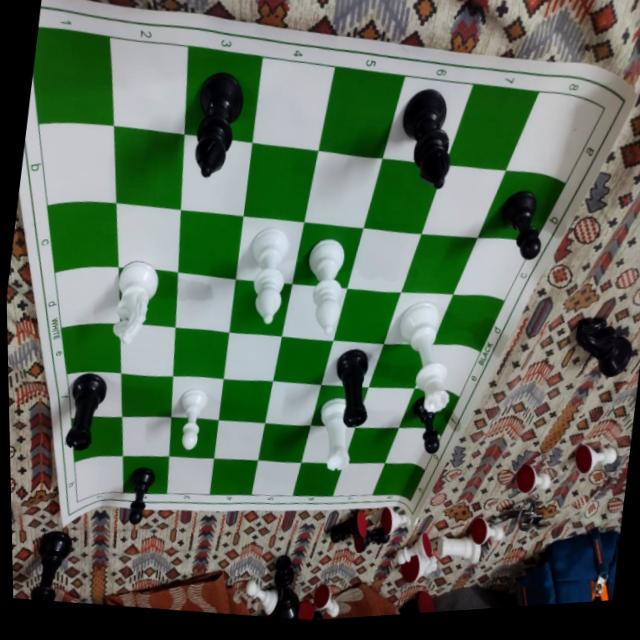board: (25, 10, 625, 517)
square: (506, 92, 604, 183), (445, 84, 539, 171), (382, 76, 473, 165), (318, 67, 405, 158), (252, 57, 335, 152), (33, 29, 113, 126), (109, 37, 188, 134), (184, 47, 263, 143), (477, 171, 566, 244), (38, 124, 116, 207), (421, 165, 506, 238), (363, 159, 445, 234), (304, 151, 382, 228), (243, 143, 318, 222), (181, 135, 252, 217), (114, 127, 184, 210), (452, 239, 533, 301), (47, 203, 118, 272), (347, 228, 422, 293), (292, 222, 363, 288), (236, 216, 304, 284), (401, 234, 477, 294), (115, 203, 181, 272), (178, 210, 243, 279), (432, 295, 505, 351), (55, 268, 120, 328), (333, 289, 401, 344), (282, 284, 347, 341), (229, 279, 292, 337), (175, 272, 235, 332), (384, 293, 453, 345), (119, 267, 178, 327), (414, 345, 480, 397), (61, 324, 121, 374), (120, 324, 176, 377), (223, 332, 282, 382), (273, 336, 333, 385), (321, 340, 383, 387), (173, 327, 229, 379), (369, 344, 432, 389), (399, 390, 460, 435), (67, 373, 122, 419), (70, 416, 123, 463), (265, 382, 321, 426), (385, 427, 441, 470), (355, 388, 415, 428), (311, 386, 369, 427), (219, 379, 273, 423), (121, 374, 173, 418), (74, 456, 123, 502), (171, 377, 223, 420), (301, 426, 355, 465), (214, 420, 265, 461), (373, 462, 425, 502), (169, 417, 218, 459), (258, 424, 311, 462), (344, 428, 399, 464), (121, 417, 171, 456), (167, 456, 214, 495), (251, 461, 301, 496), (123, 456, 169, 494), (210, 459, 258, 495), (333, 463, 385, 496), (293, 463, 344, 496)
